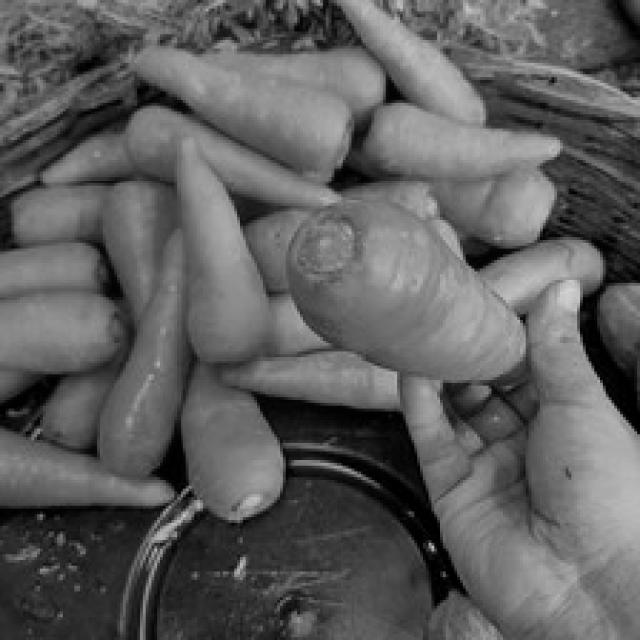Fresh_Carrot: (274, 187, 531, 381), (98, 215, 189, 472), (179, 135, 267, 373)
